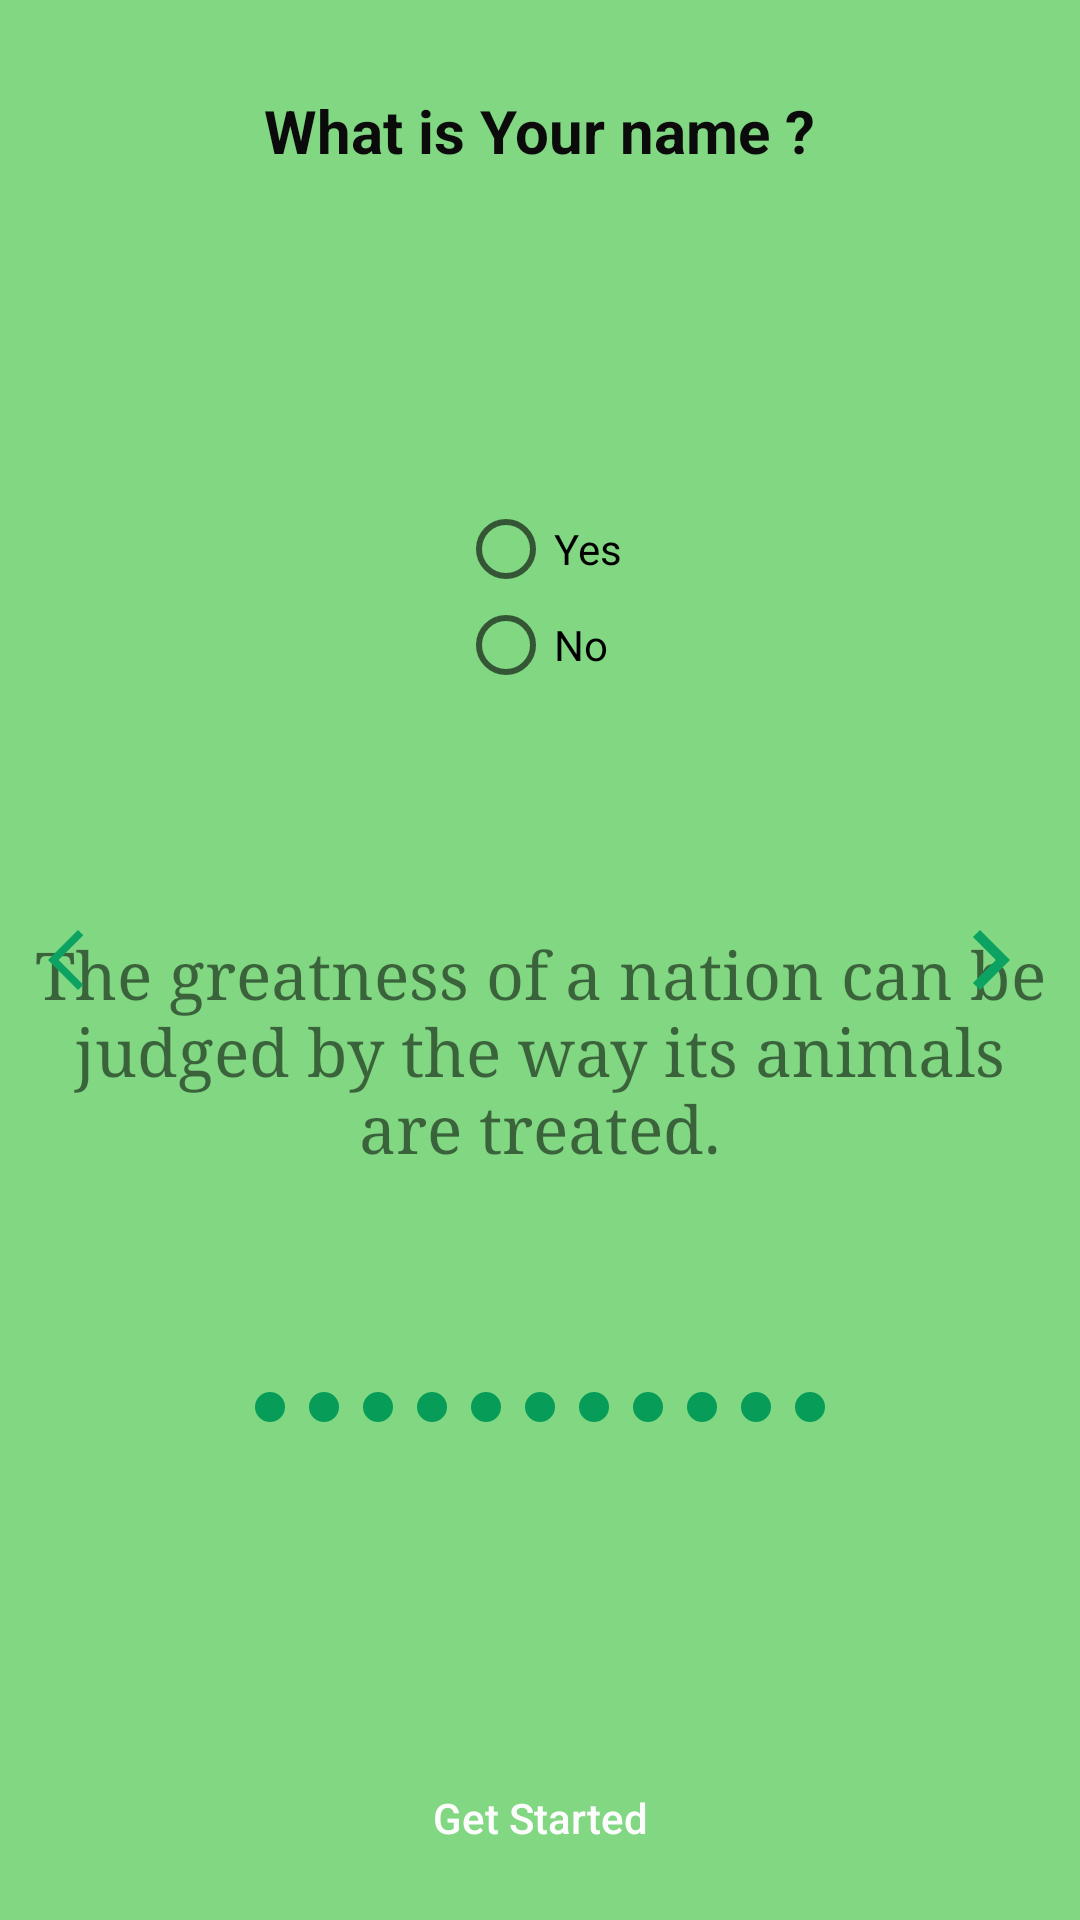

Icon bounding boxes for this 1080×1920 phone screenshot, format (x1, y1, x2, y2):
next: (971, 930, 1043, 1001)
previous: (36, 930, 102, 996)
